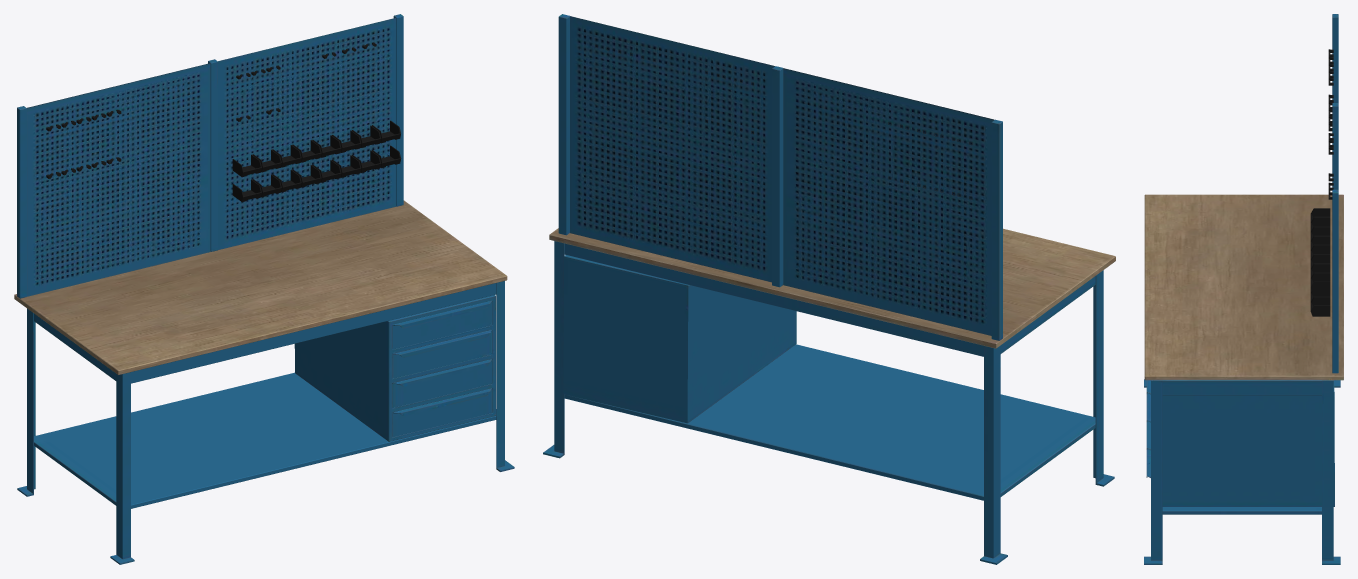
The model's file is work_table.glb.
3 views of the same model, side by side, from view 1: azimuth 30°, elevation 25°; view 2: azimuth 150°, elevation 25°; view 3: azimuth 270°, elevation 25° (orthographic). The views are drawn at different scales.
Visible parts, largest first — view 1: BancoDaLavoro_0; view 2: BancoDaLavoro_0; view 3: BancoDaLavoro_0.
Boxes of the visible parts, box(x1,y1,x2,y2) form: BancoDaLavoro_0: box(14, 14, 514, 564); BancoDaLavoro_0: box(543, 14, 1115, 564); BancoDaLavoro_0: box(1144, 14, 1343, 564).
Size of the model in its own units: 1.9 by 1.76 by 0.871.
Materials: 2 (1 with a texture image).
